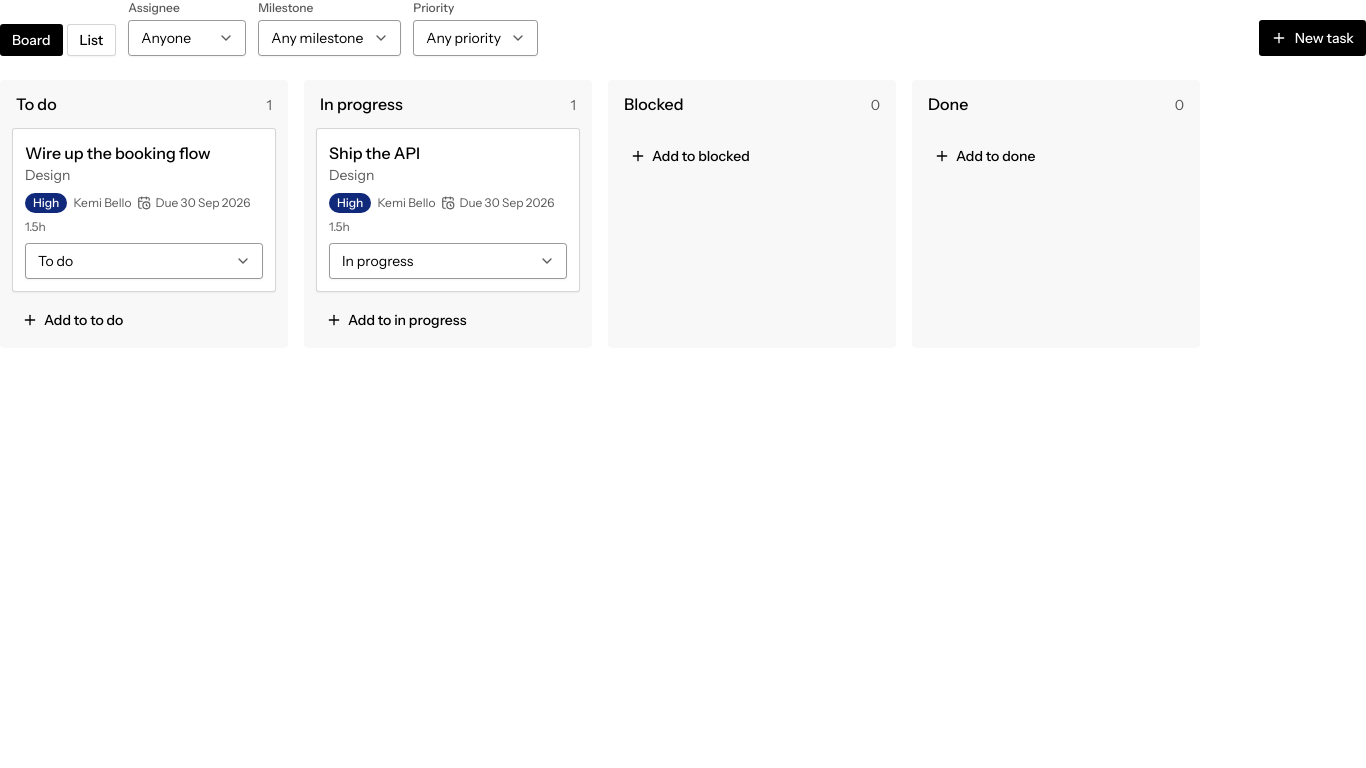
TaskBoard › says so when the estimate is not a number
Click the button "New task": (1312, 38) x1=1259 y1=20 x2=1365 y2=56
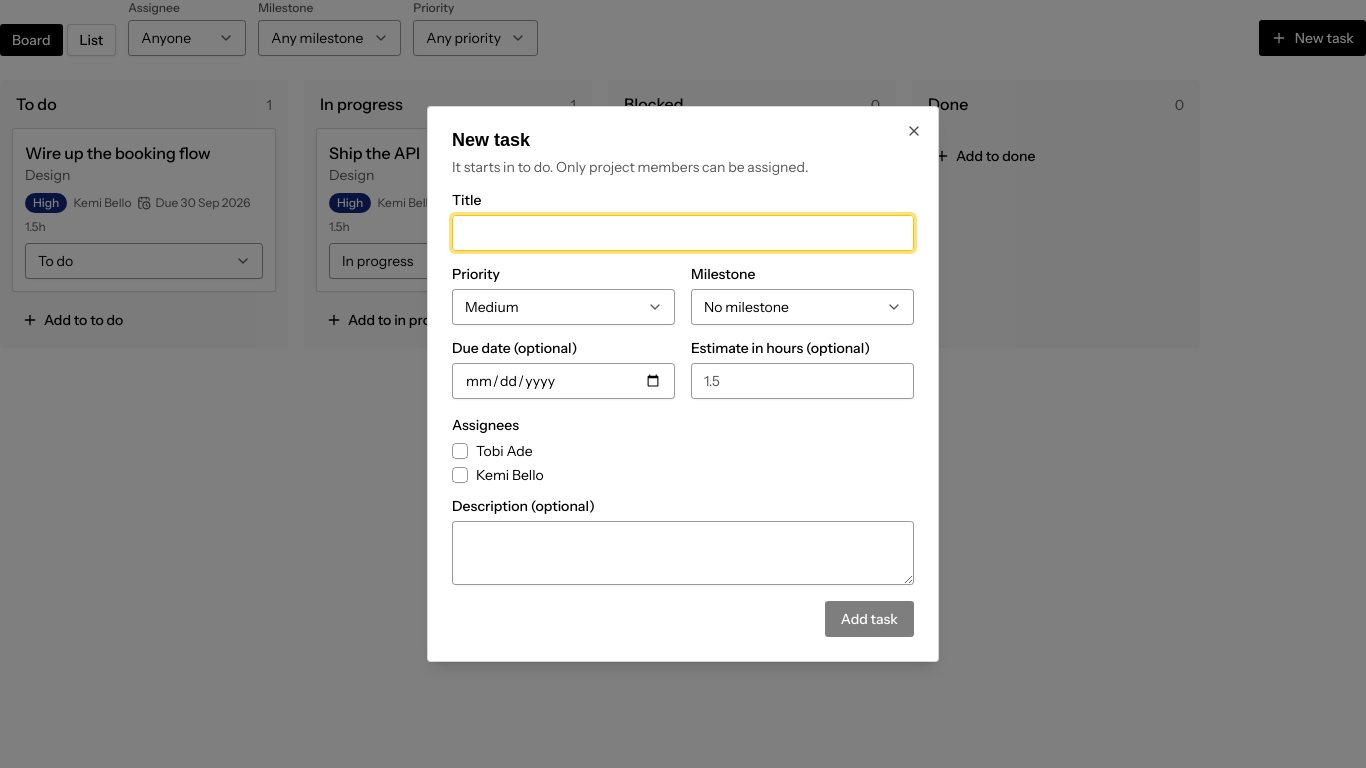
In the field labelled "Title": (683, 233) x1=452 y1=215 x2=914 y2=251, type "Chase the API keys"
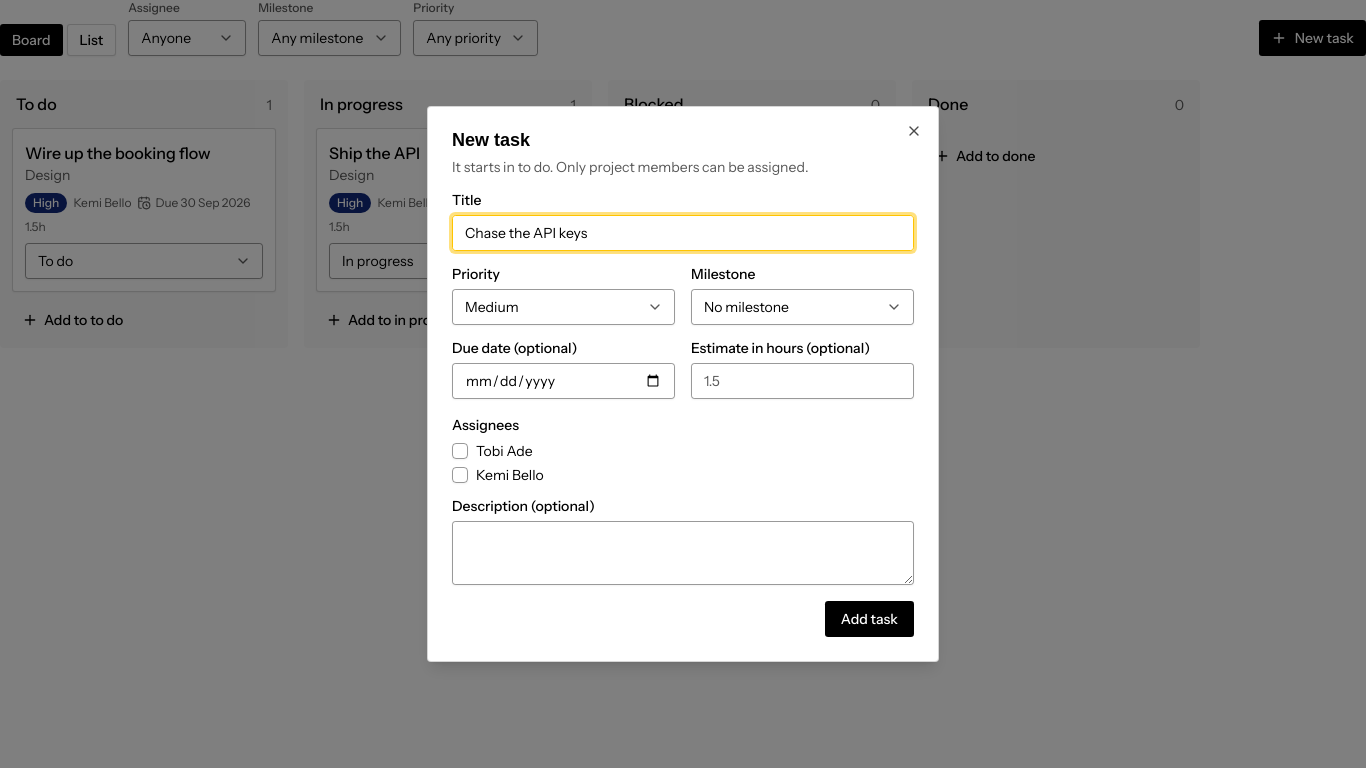
In the field labelled "Estimate in hours (optional)": (802, 381) x1=691 y1=363 x2=914 y2=399, type "half a day"
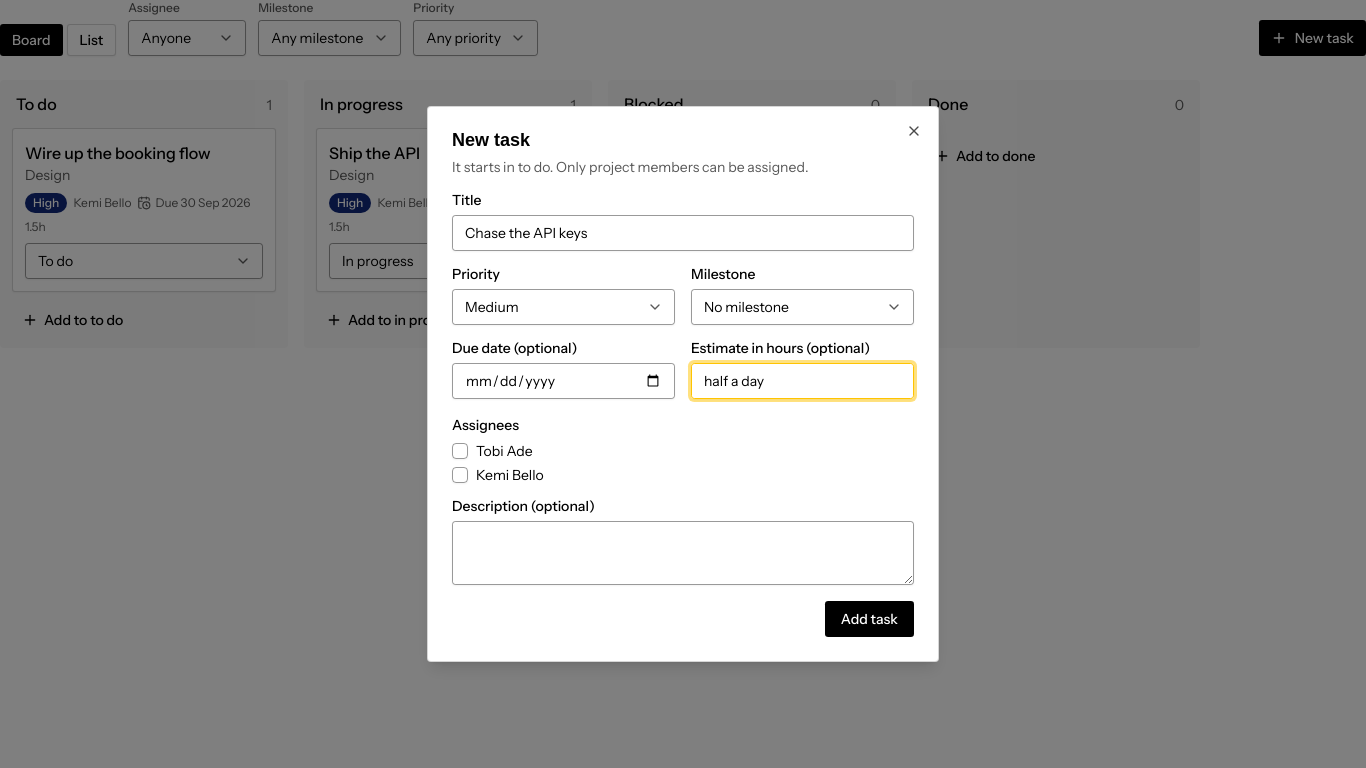
Click the button "Add task": (869, 619) x1=825 y1=601 x2=914 y2=637
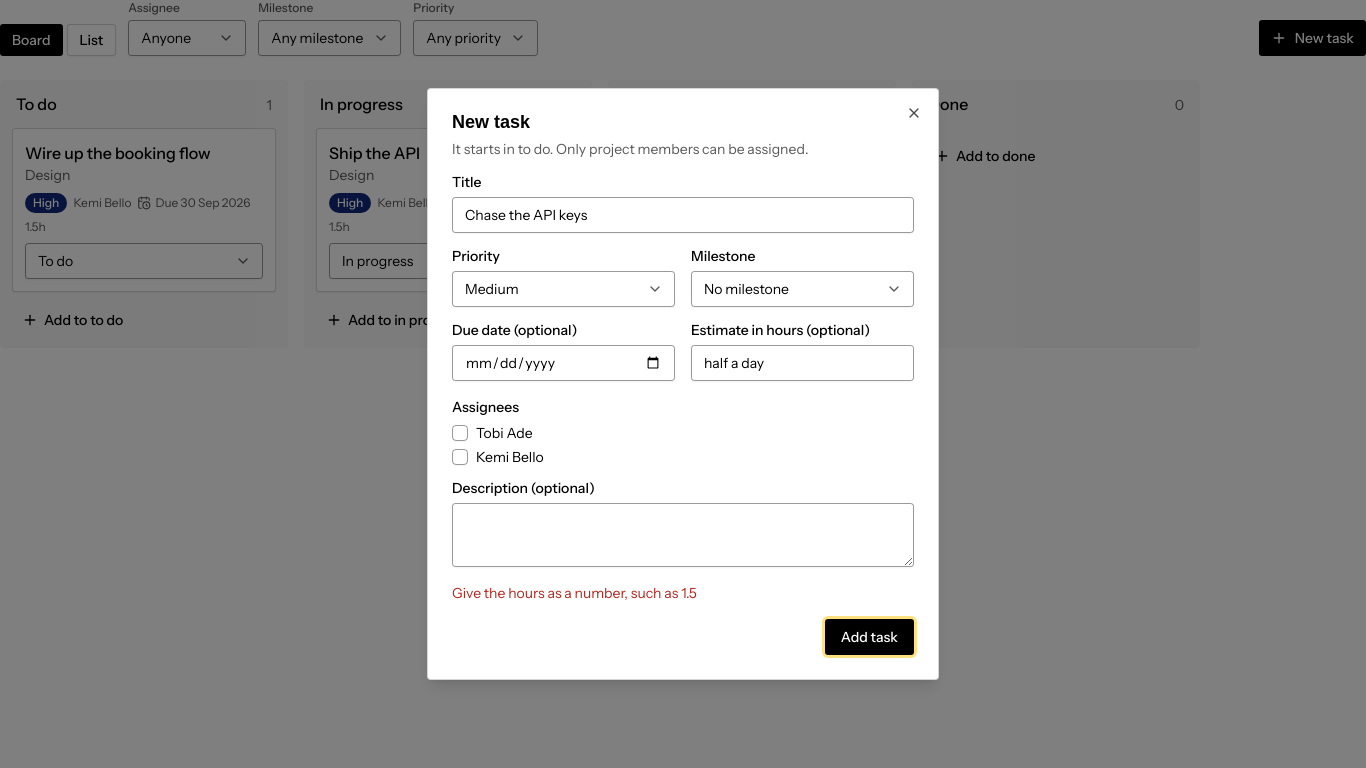
Now the message shows "Give the hours as a number", box x1=452 y1=584 x2=697 y2=602
